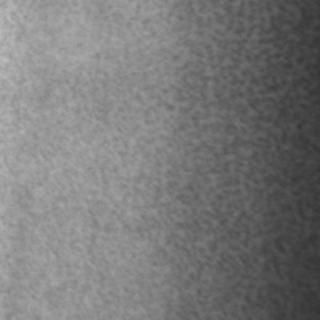pitted_surface: (126, 3, 314, 313)
